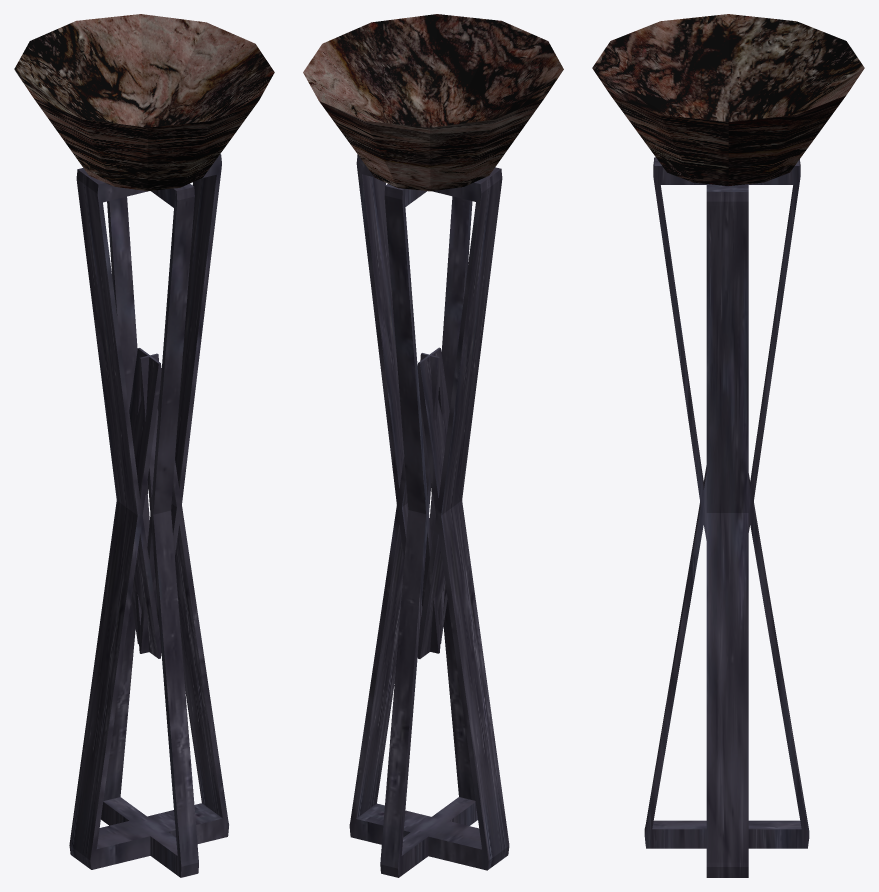
File: AltarCandlet2.fbx
3 views of the same model, side by side, from view 1: azimuth 30°, elevation 25°; view 2: azimuth 150°, elevation 25°; view 3: azimuth 270°, elevation 25° (orthographic).
Visible parts, largest first — view 1: Mesh1; view 2: Mesh1; view 3: Mesh1.
Part boxes in pixels (x1,y1,x2,y2): Mesh1: [14, 14, 274, 877]; Mesh1: [303, 14, 563, 877]; Mesh1: [592, 14, 864, 877].
Bounding box in the file's own units: 1.02 × 3.4 × 1.08.
